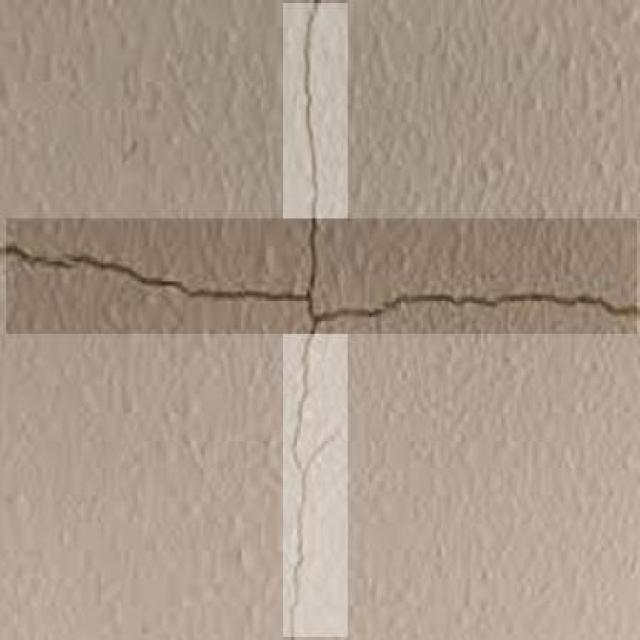Crack: (6, 226, 638, 329), (274, 339, 332, 639), (292, 0, 328, 209)
